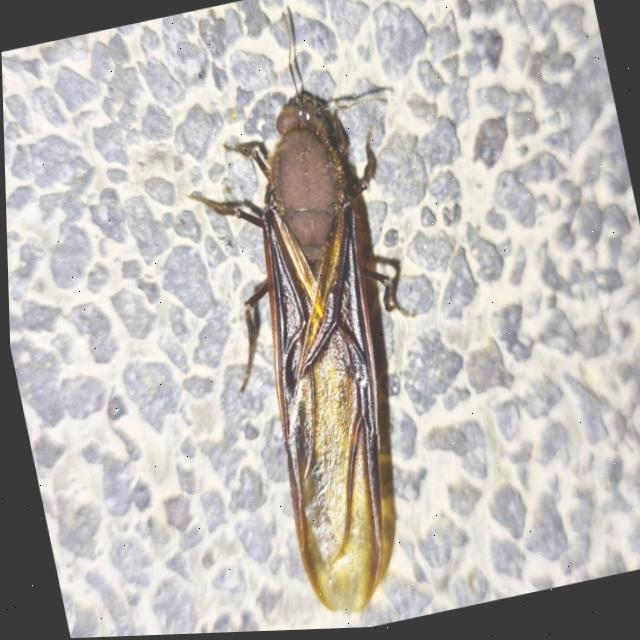Alive-Female-Alate: (150, 0, 494, 636)
